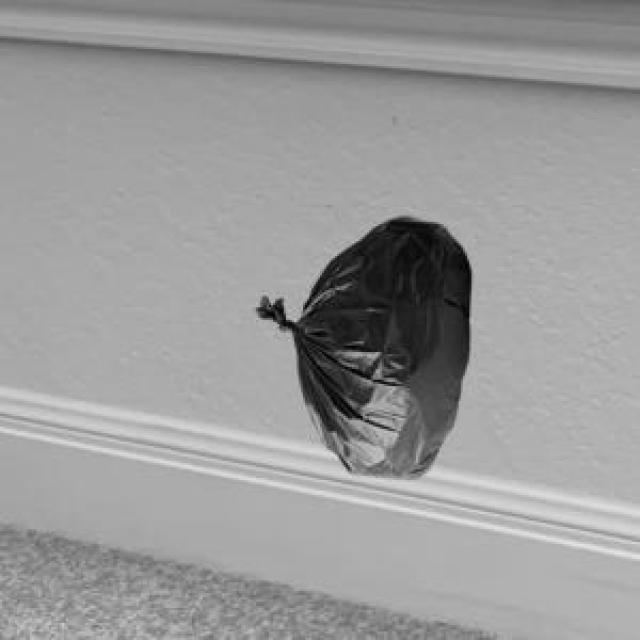miscellaneous trash: (252, 213, 467, 476)
